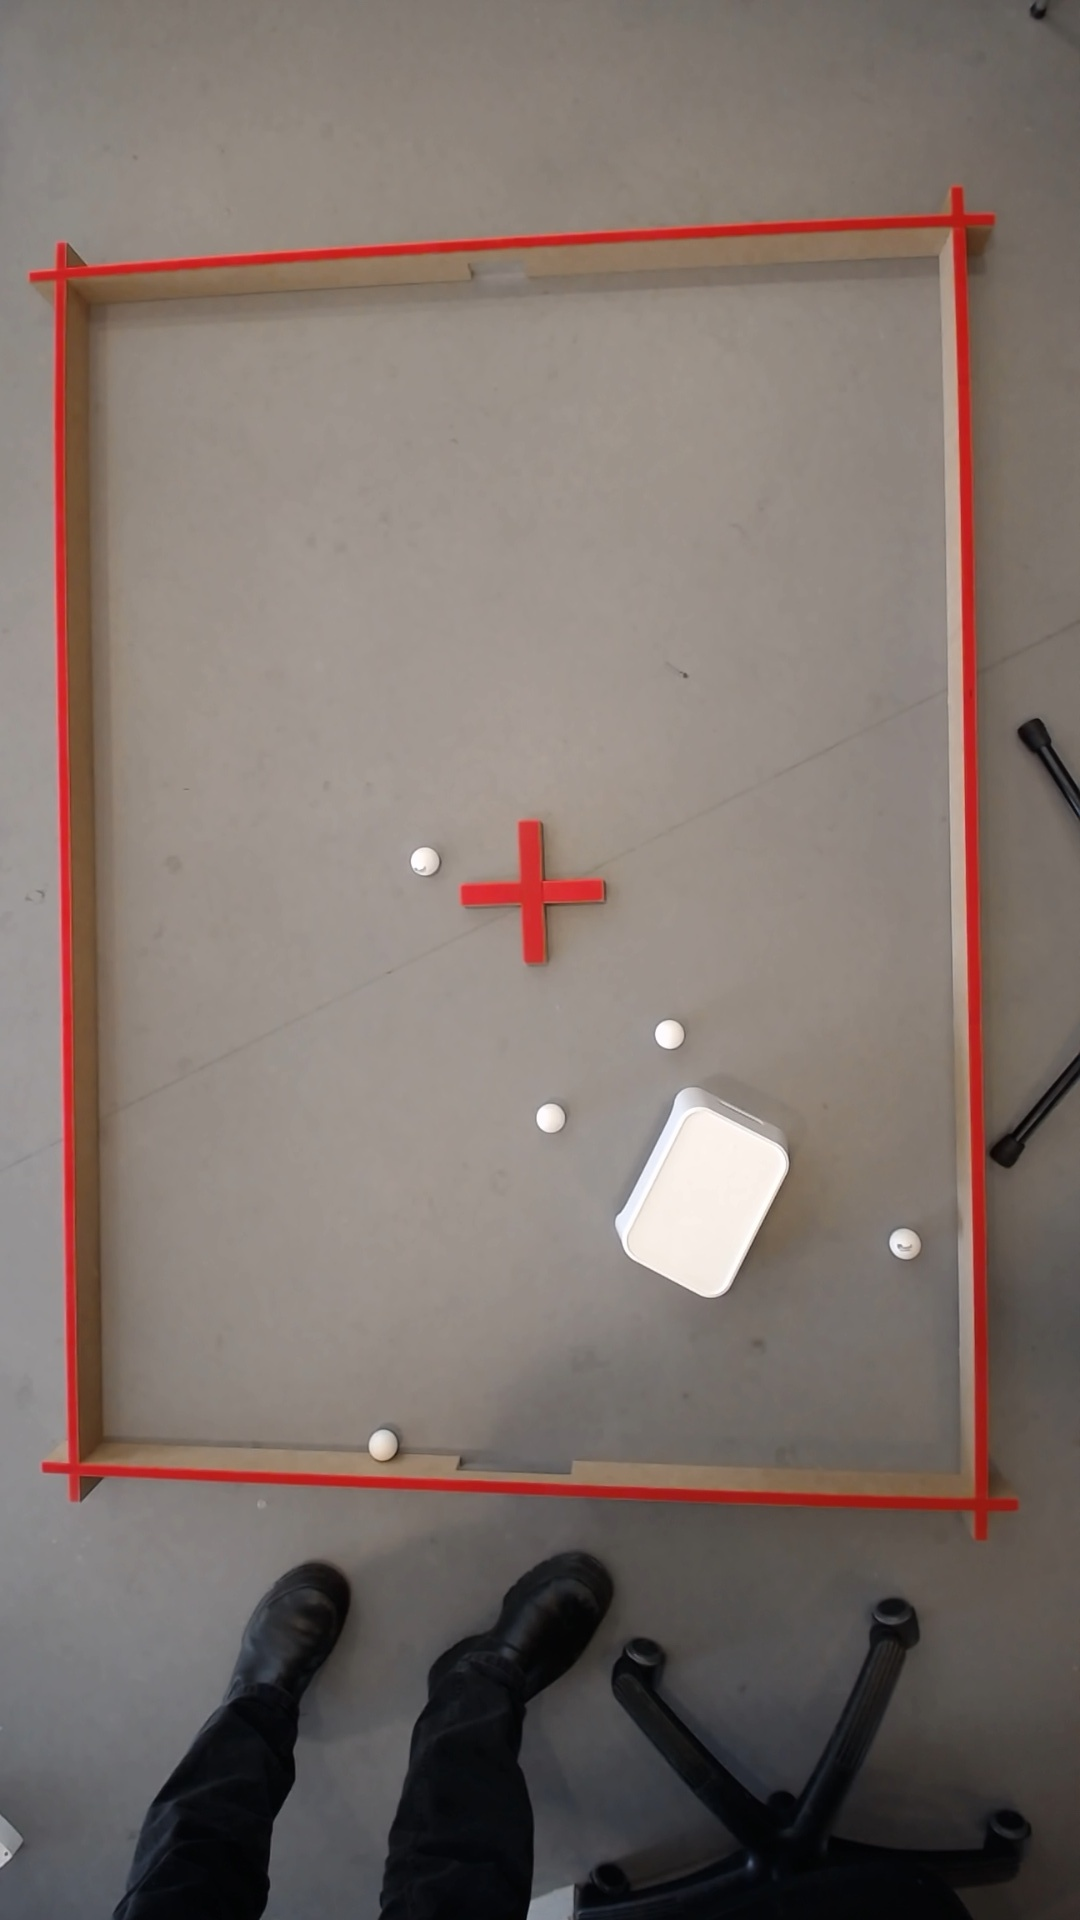balls: (600, 1088, 798, 1304), (649, 1014, 684, 1051), (530, 1098, 566, 1135), (363, 1424, 396, 1461)
car: (884, 1224, 918, 1259)
